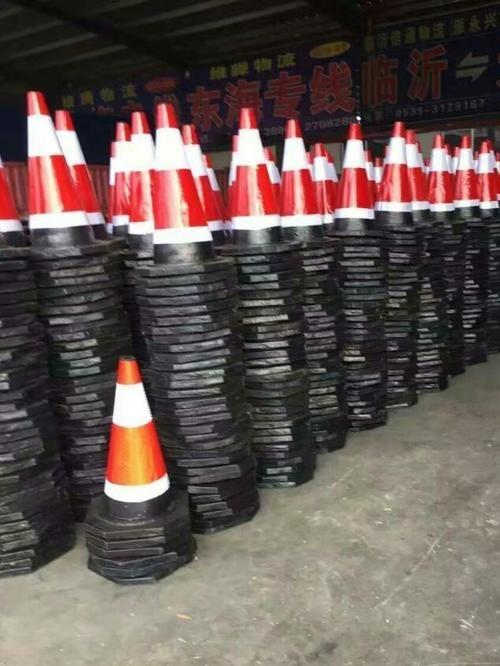cone_barrel: (89, 353, 176, 526), (21, 90, 91, 242), (151, 102, 216, 262), (220, 108, 280, 237), (52, 106, 104, 228), (276, 117, 313, 236), (178, 122, 220, 225), (376, 120, 414, 225), (334, 120, 372, 225), (108, 120, 131, 238), (426, 134, 452, 217), (310, 144, 334, 226), (451, 136, 476, 213), (475, 137, 496, 211)
